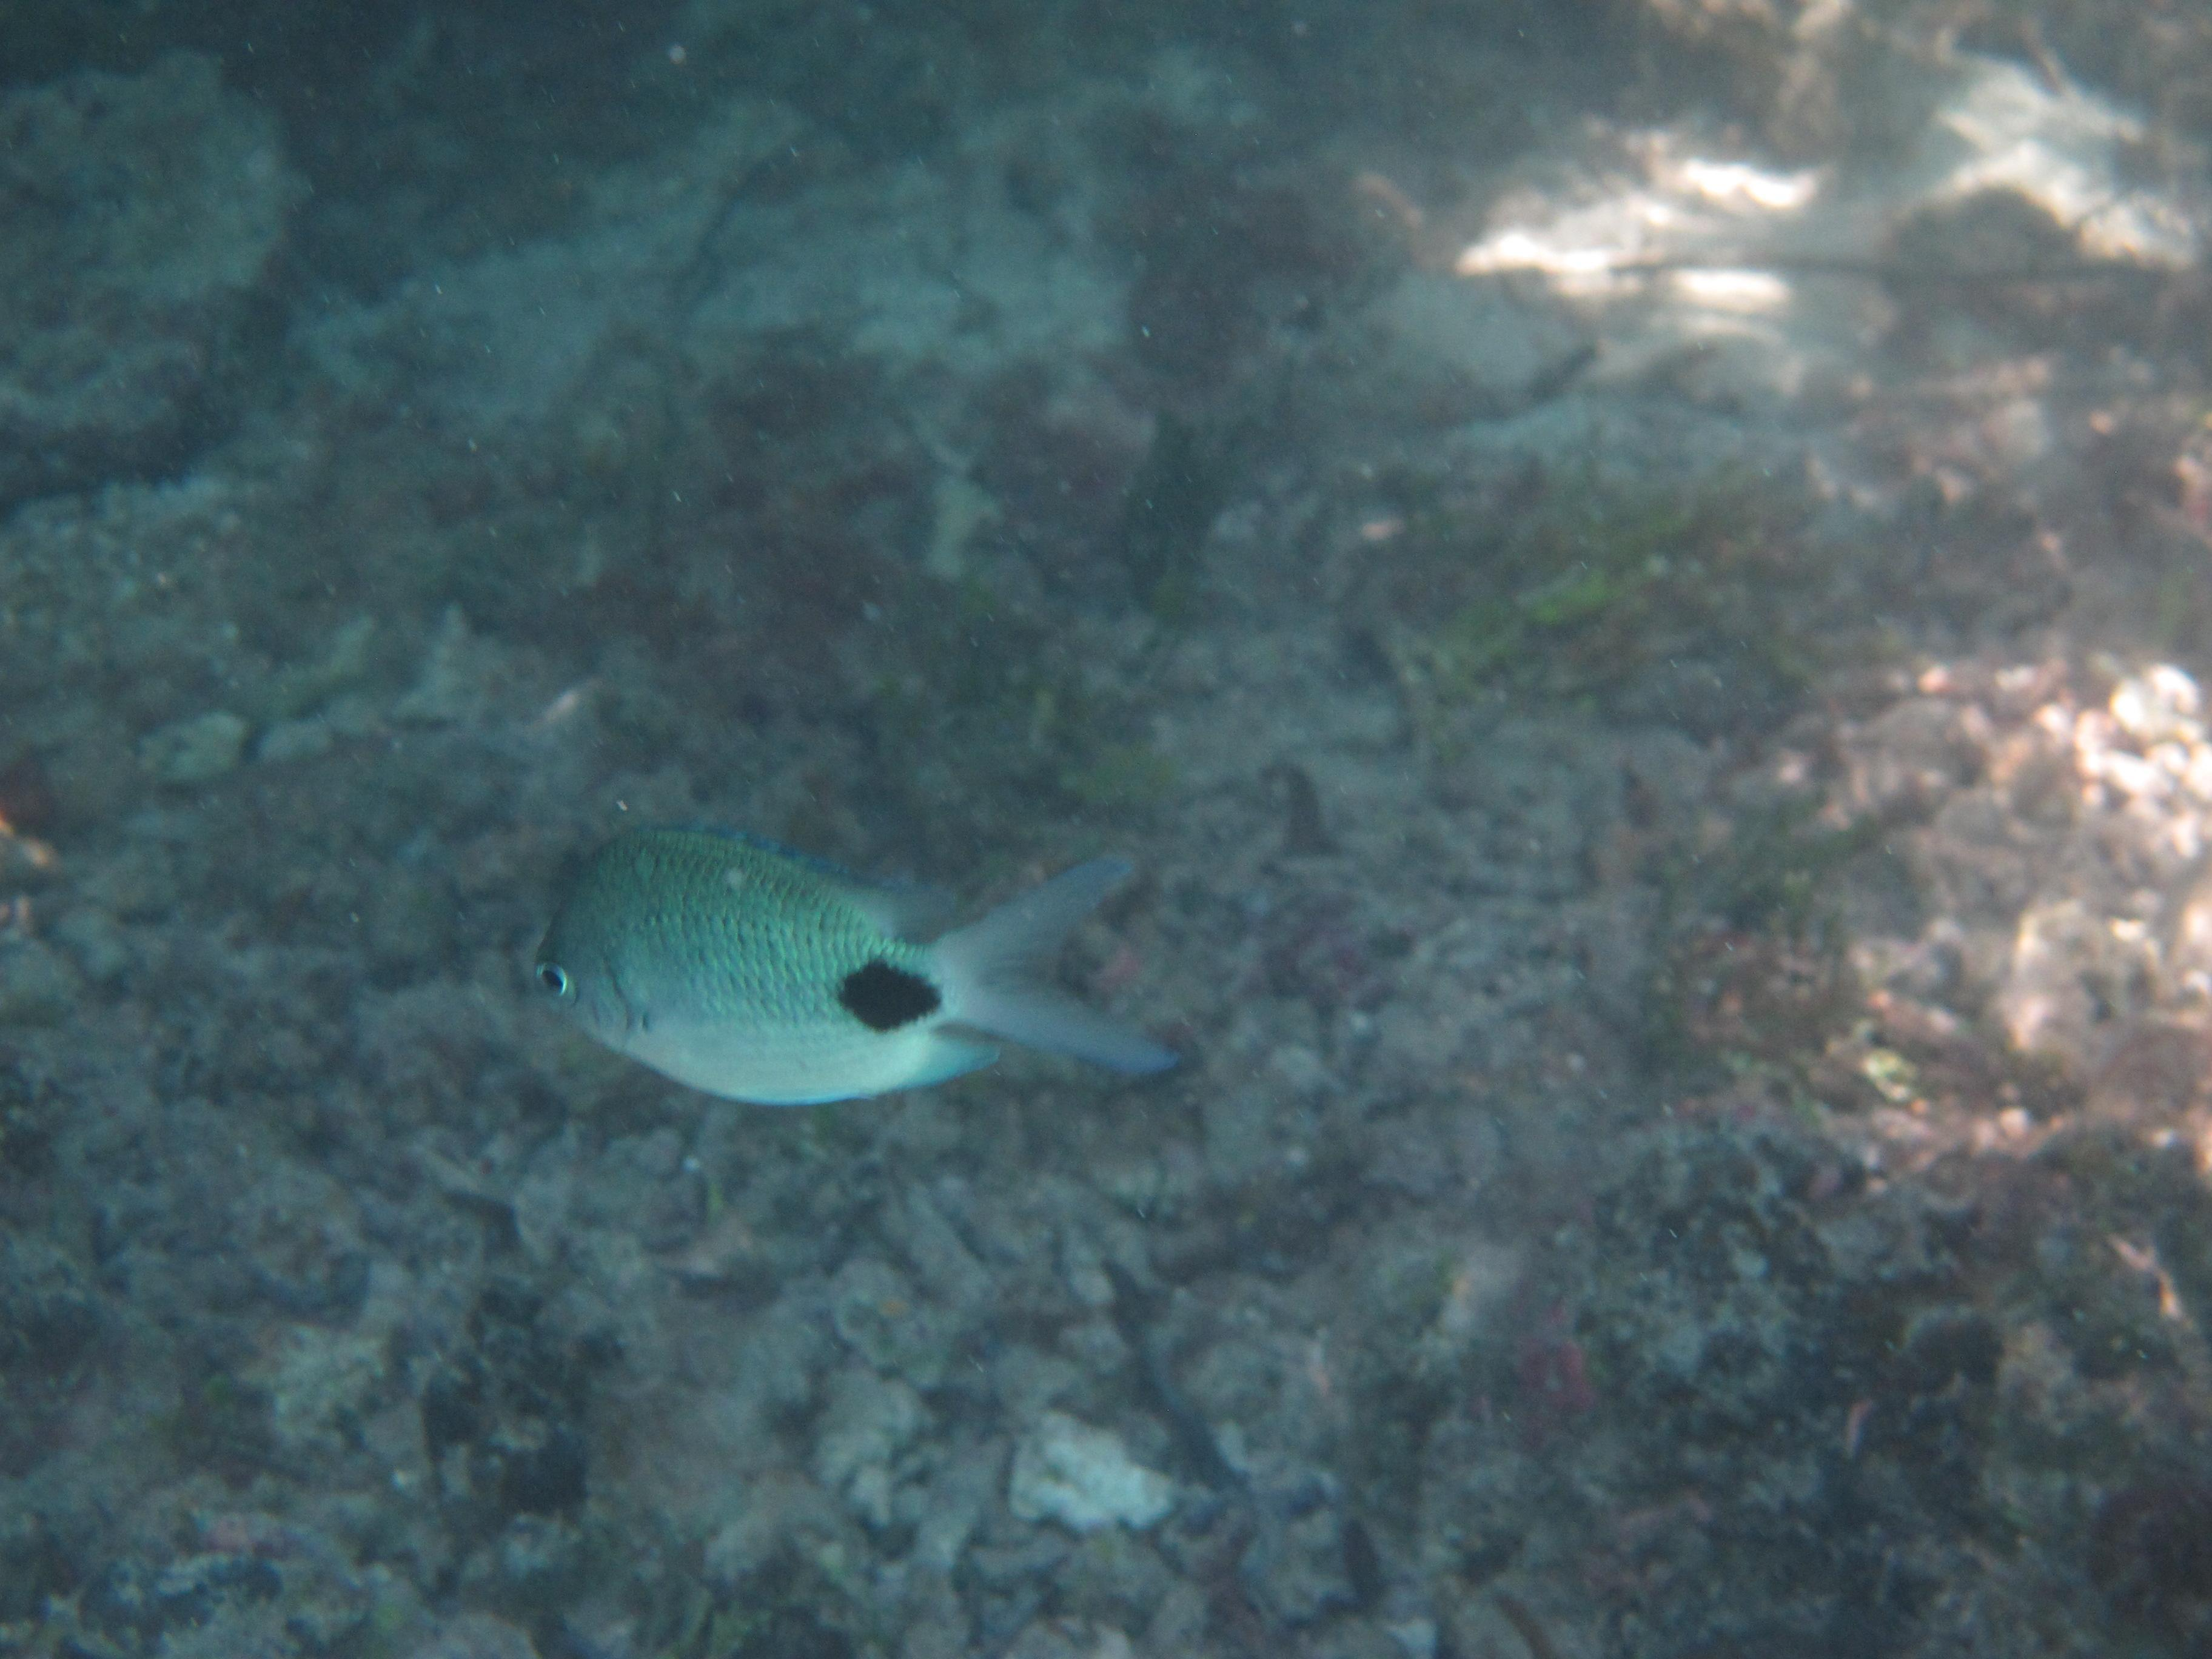Fish: (455, 749, 1273, 1258)
